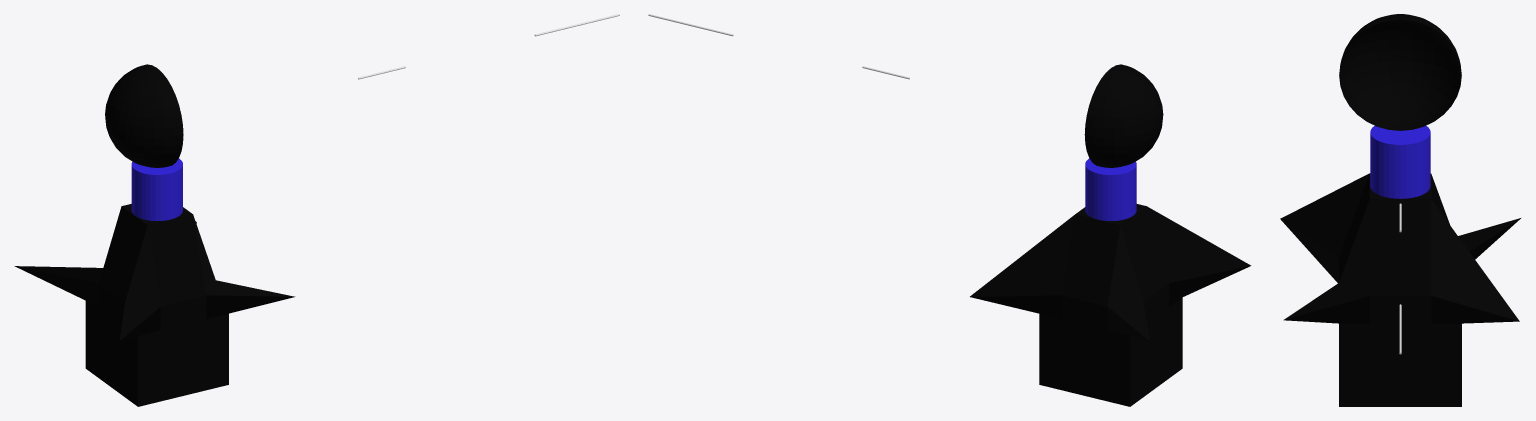
Rendered from LaserTower2.fbx.
3 views of the same model, side by side, from view 1: azimuth 30°, elevation 25°; view 2: azimuth 150°, elevation 25°; view 3: azimuth 270°, elevation 25° (orthographic). The views are drawn at different scales.
Parts seen in each view (by area): view 1: Cube, Sphere, Cylinder; view 2: Cube, Sphere, Cylinder; view 3: Cube, Sphere, Cylinder, Sphere.001.
Part boxes in pixels (x1,y1,x2,y2): Cube: (14,204,295,406); Sphere: (105,64,183,167); Cylinder: (131,158,182,220); Cube: (970,204,1251,406); Sphere: (1084,64,1163,167); Cylinder: (1085,158,1136,220); Cube: (1280,173,1520,406); Sphere: (1339,14,1461,130); Cylinder: (1370,126,1430,198); Sphere.001: (1339,20,1460,130).
Bounding box in the file's own units: 1219 × 650 × 394.
